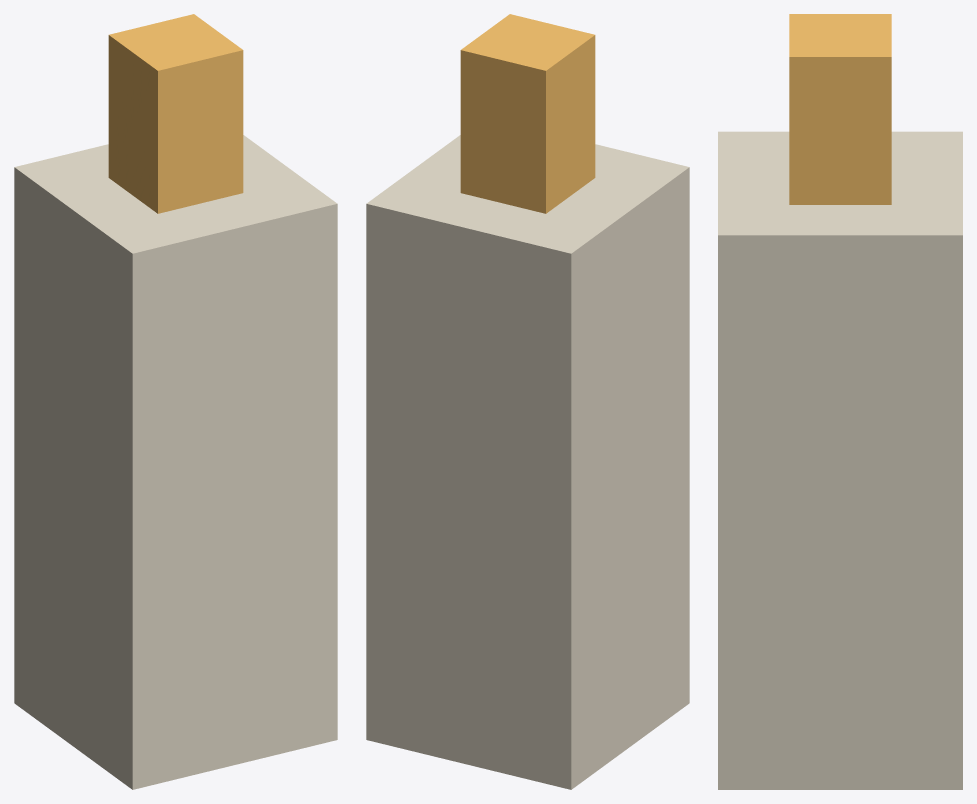
The model's file is candle.glb.
3 renders of one model, left to right at view 1: azimuth 30°, elevation 25°; view 2: azimuth 150°, elevation 25°; view 3: azimuth 270°, elevation 25°, orthographic. The views are drawn at different scales.
Visible parts, largest first — view 1: candle; view 2: candle; view 3: candle.
Part boxes in pixels (x1,y1,x2,y2): candle: (14, 14, 337, 789); candle: (366, 14, 689, 789); candle: (718, 14, 962, 789).
Size of the model in its own units: 0.12 by 0.38 by 0.12.
1 material, 1 textured.
